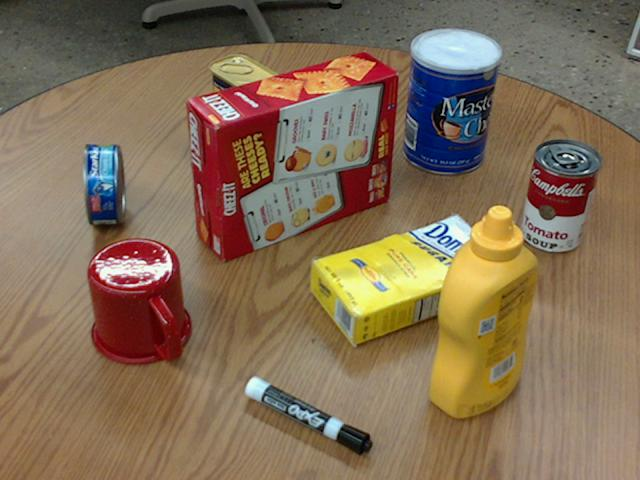cracker_box: (187, 50, 396, 260)
gelatin_box: (304, 67, 385, 122)
large_marker: (244, 377, 371, 454)
master_chef_can: (402, 28, 500, 173)
mug: (88, 238, 192, 363)
mustard_bottle: (430, 205, 537, 417)
potted_meat_can: (209, 53, 286, 149)
sugar_box: (309, 217, 509, 343)
tomato_soup_can: (521, 139, 601, 252)
tuna_fish_can: (84, 144, 124, 225)
